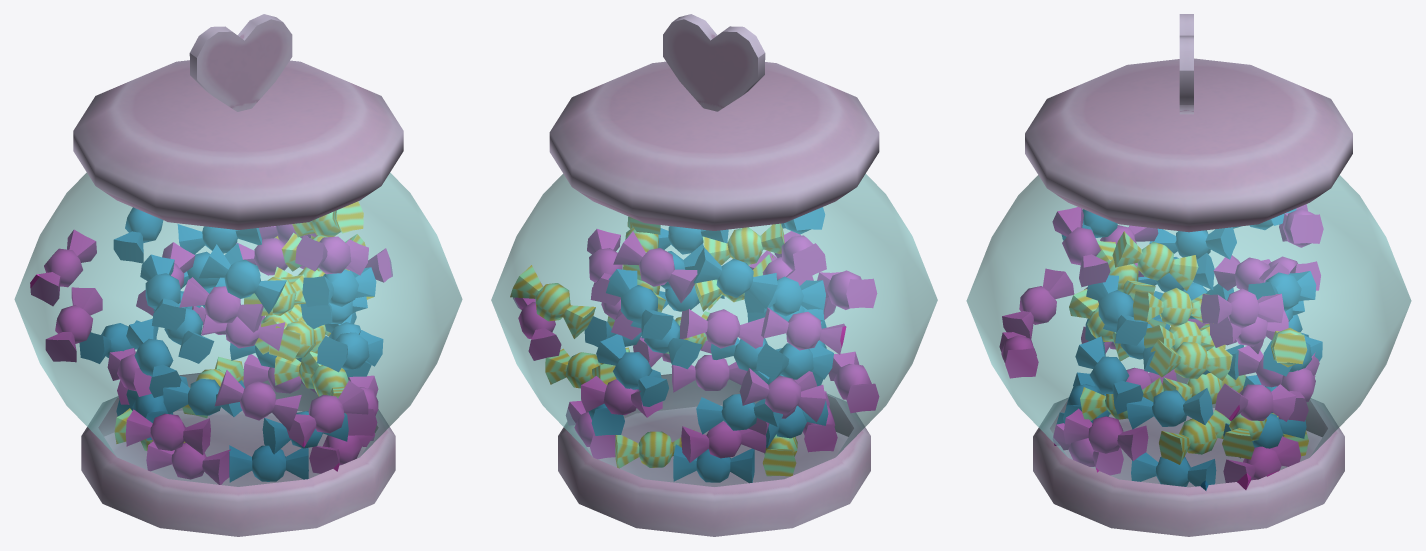
Rendered from Sweet_Jar3.fbx.
3 renders of one model, left to right at view 1: azimuth 30°, elevation 25°; view 2: azimuth 150°, elevation 25°; view 3: azimuth 270°, elevation 25°, orthographic.
Parts seen in each view (by area): view 1: sweet6_low260; view 2: sweet6_low260; view 3: sweet6_low260.
Boxes of the visible parts, box(x1,y1,x2,y2) form: sweet6_low260: box(14, 14, 462, 536); sweet6_low260: box(491, 14, 937, 536); sweet6_low260: box(966, 14, 1411, 536).
Size of the model in its own units: 38.44 by 42.4 by 38.44.
